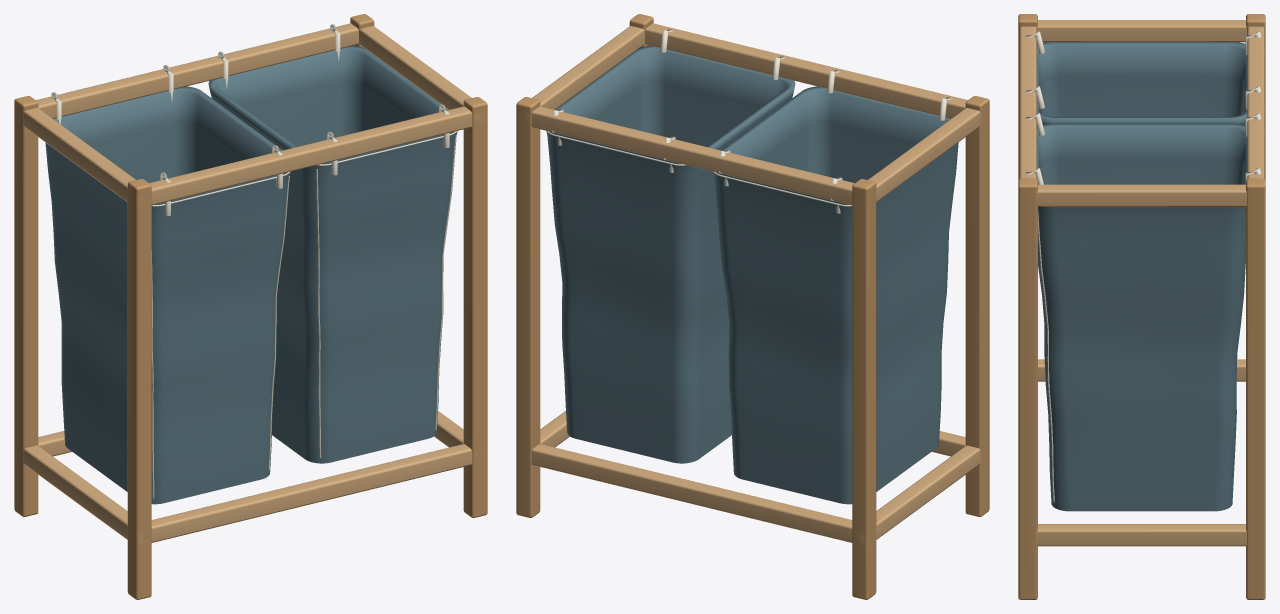
File: laundry-divided-hamper.glb
The picture shows the model from 3 angles, left to right: view 1: azimuth 30°, elevation 25°; view 2: azimuth 150°, elevation 25°; view 3: azimuth 270°, elevation 25°; orthographic projection.
Parts seen in each view (by area): view 1: catalog_surface_RealismUV; view 2: catalog_surface_RealismUV; view 3: catalog_surface_RealismUV.
Boxes of the visible parts, bbox=[...] form: catalog_surface_RealismUV: bbox=[14, 14, 487, 599]; catalog_surface_RealismUV: bbox=[516, 14, 989, 599]; catalog_surface_RealismUV: bbox=[1018, 14, 1265, 599].
Bounding box in the file's own units: 0.66 × 0.74 × 0.4.
